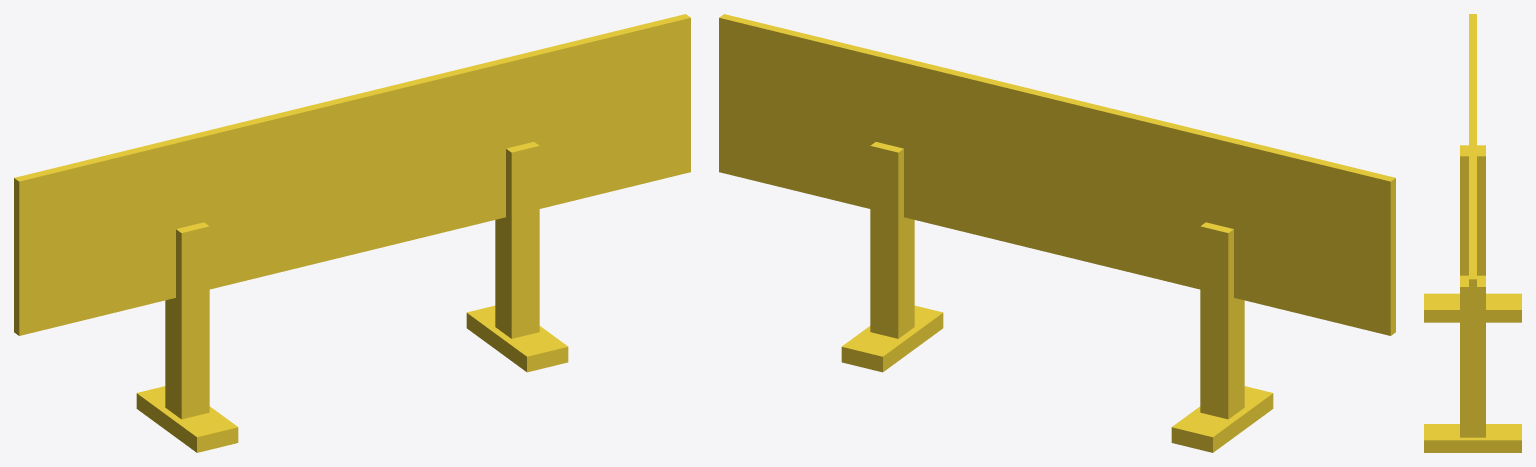
The model's file is SafetyRailing.dae.
3 views of the same model, side by side, from view 1: azimuth 30°, elevation 25°; view 2: azimuth 150°, elevation 25°; view 3: azimuth 270°, elevation 25° (orthographic). The views are drawn at different scales.
Visible parts, largest first — view 1: Cube_001.001, Cube_002_001.001, Cube_001_001.001, Cube_003_001.001, Cube_004_001.001; view 2: Cube_001.001, Cube_002_001.001, Cube_001_001.001, Cube_003_001.001, Cube_004_001.001; view 3: Cube_001_001.001, Cube_001.001, Cube_004_001.001, Cube_002_001.001, Cube_003_001.001.
Part boxes in pixels (box(x1,y1,x2,y2)): Cube_001.001: box(14, 14, 690, 335); Cube_002_001.001: box(165, 222, 209, 419); Cube_001_001.001: box(495, 142, 539, 338); Cube_003_001.001: box(136, 386, 238, 452); Cube_004_001.001: box(466, 305, 568, 372); Cube_001.001: box(719, 14, 1395, 335); Cube_002_001.001: box(1200, 222, 1244, 419); Cube_001_001.001: box(870, 142, 914, 338); Cube_003_001.001: box(1171, 386, 1273, 452); Cube_004_001.001: box(841, 305, 943, 372); Cube_001_001.001: box(1460, 275, 1485, 437); Cube_001.001: box(1469, 14, 1476, 404); Cube_004_001.001: box(1424, 424, 1521, 452); Cube_002_001.001: box(1460, 145, 1485, 275); Cube_003_001.001: box(1424, 293, 1521, 322).
Bounding box in the file's own units: 2.57 × 0.4002 × 1.05.
